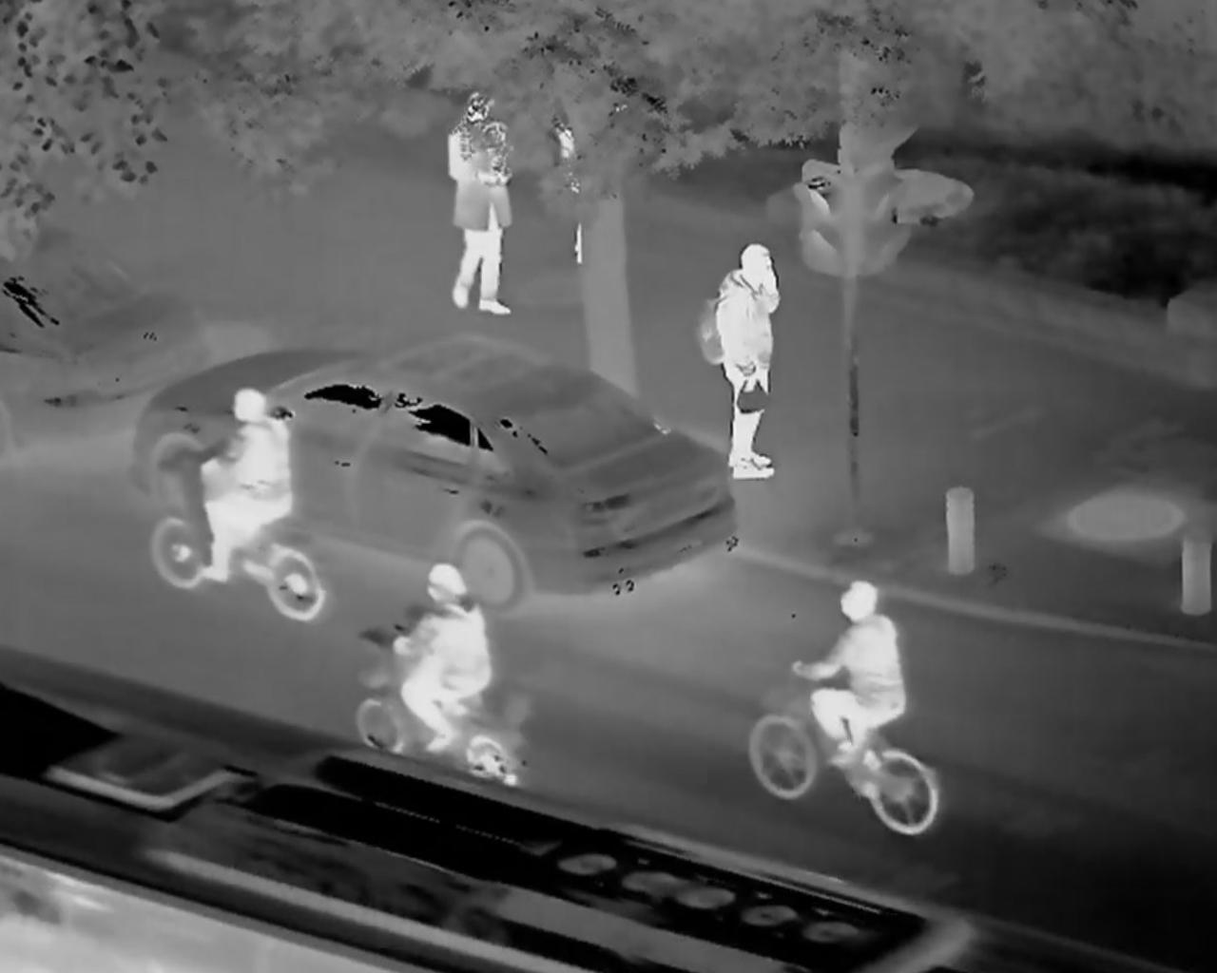person: (787, 568, 918, 781), (695, 225, 801, 487), (189, 387, 303, 583), (384, 563, 489, 763), (443, 90, 519, 317), (551, 112, 625, 277)
